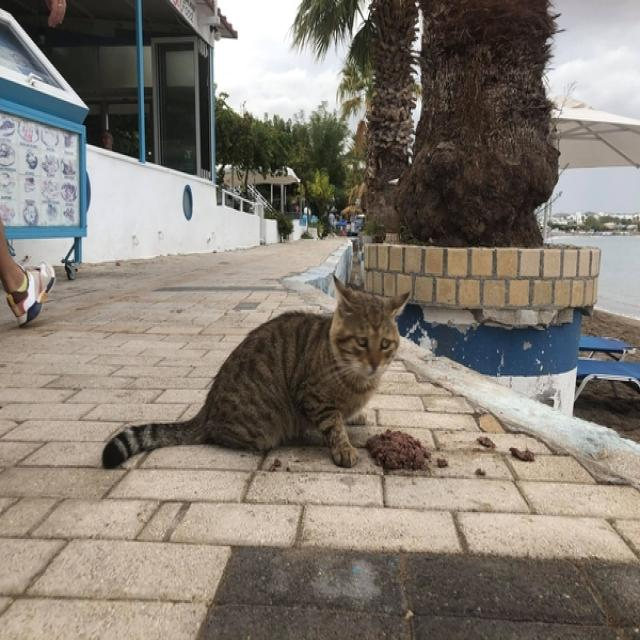cat: (102, 278, 409, 468)
